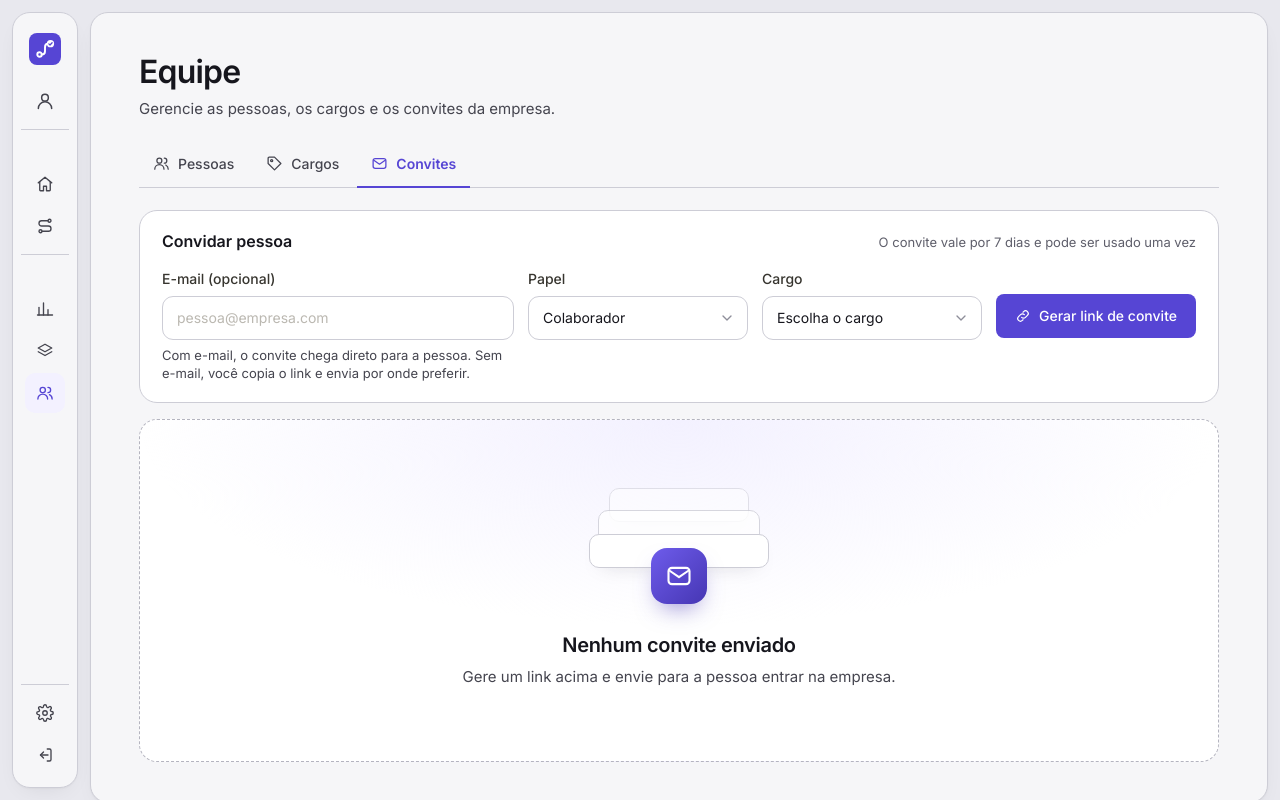
Test case: equipe: convites › envia convite aberto sem e-mail para um gestor sem cargo
This screenshot has width=1280, height=800.
Select "Gestor" in the dropdown labelled "Papel" at (638, 318), box [528, 296, 748, 340]
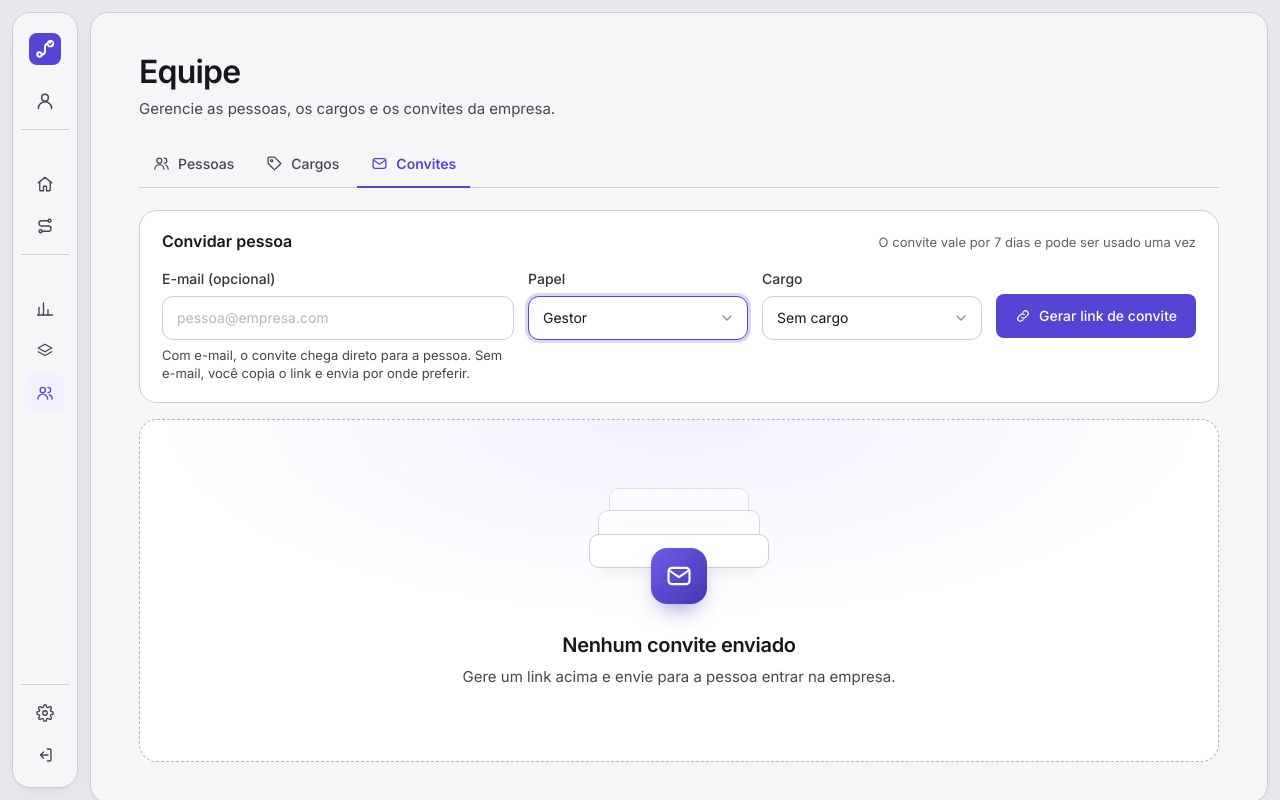
Click the button "Gerar link de convite" at (1096, 316), box [996, 294, 1196, 338]
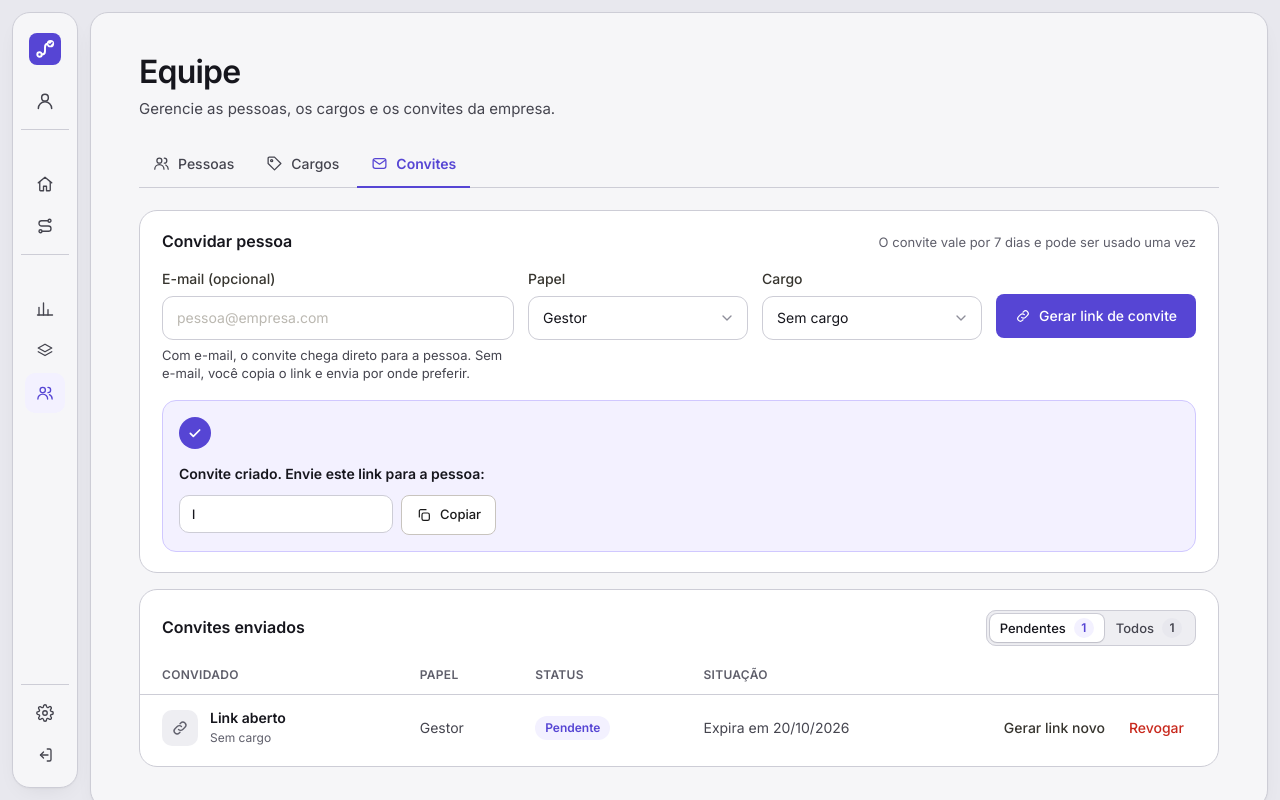
Expected: the field named "Link do convite" is shown, [179, 495, 393, 533]
Expected: the text "Convite criado. Envie este link para a pessoa:" is shown, [179, 463, 496, 485]
Expected: the text "Link aberto" is shown, [210, 708, 286, 729]
